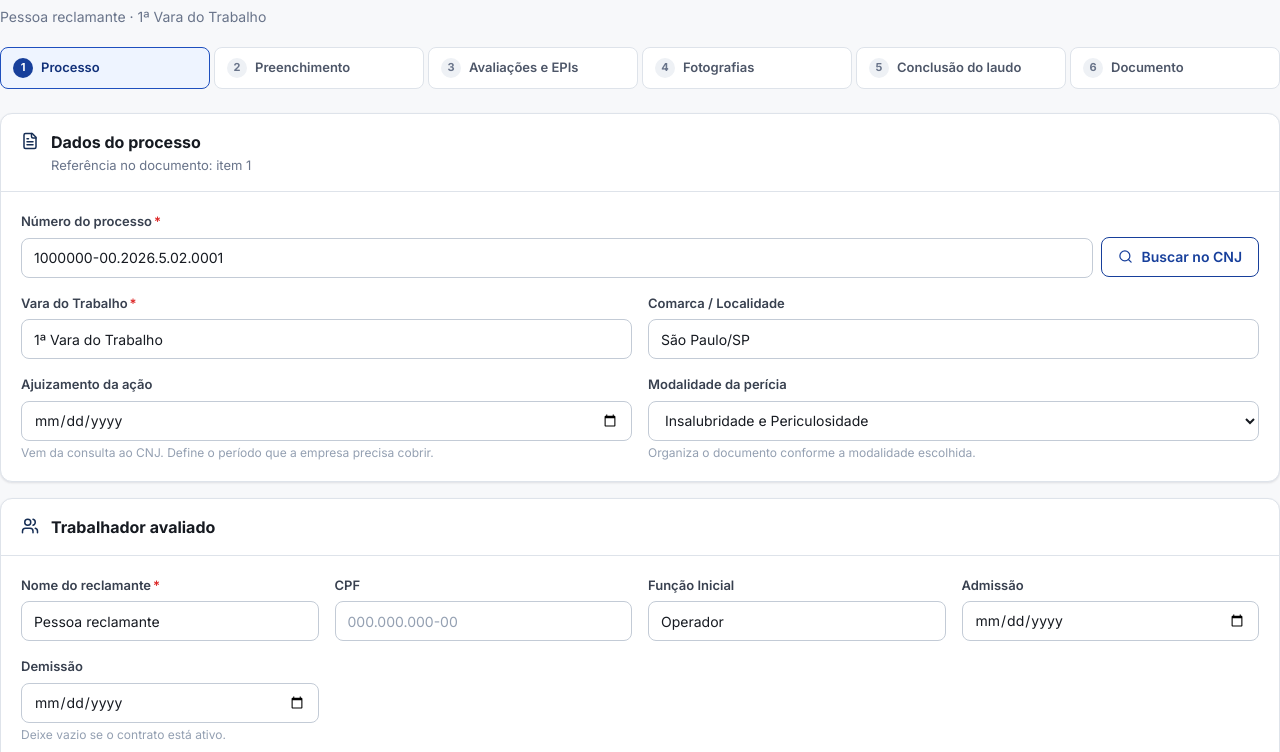
Test: PericiaEditor — fotos das medições por agente (Laudo e Parecer) › sem tipo=laudo (parecer) o Parecer também oferece o bloco, com galeria e câmera, e diz que sai no Parecer
The image size is (1280, 752).
Click the button "3 Avaliações e EPIs" at (533, 68), box [428,46,638,88]
(page scrolled)
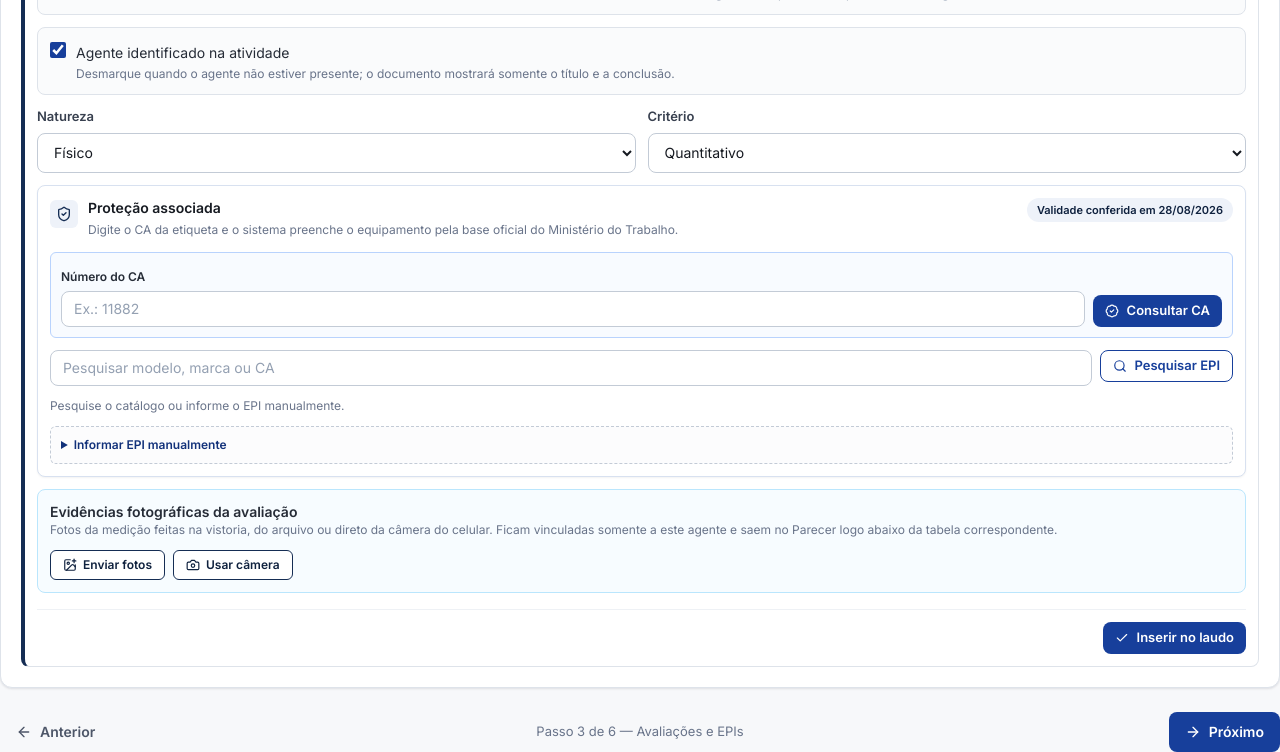
Check: the text "Evidências fotográficas da avaliação" is shown, box [50,502,297,520]
Check: the text "saem no Parecer logo abaixo da tabela correspondente" is shown, box [50,522,1058,538]
